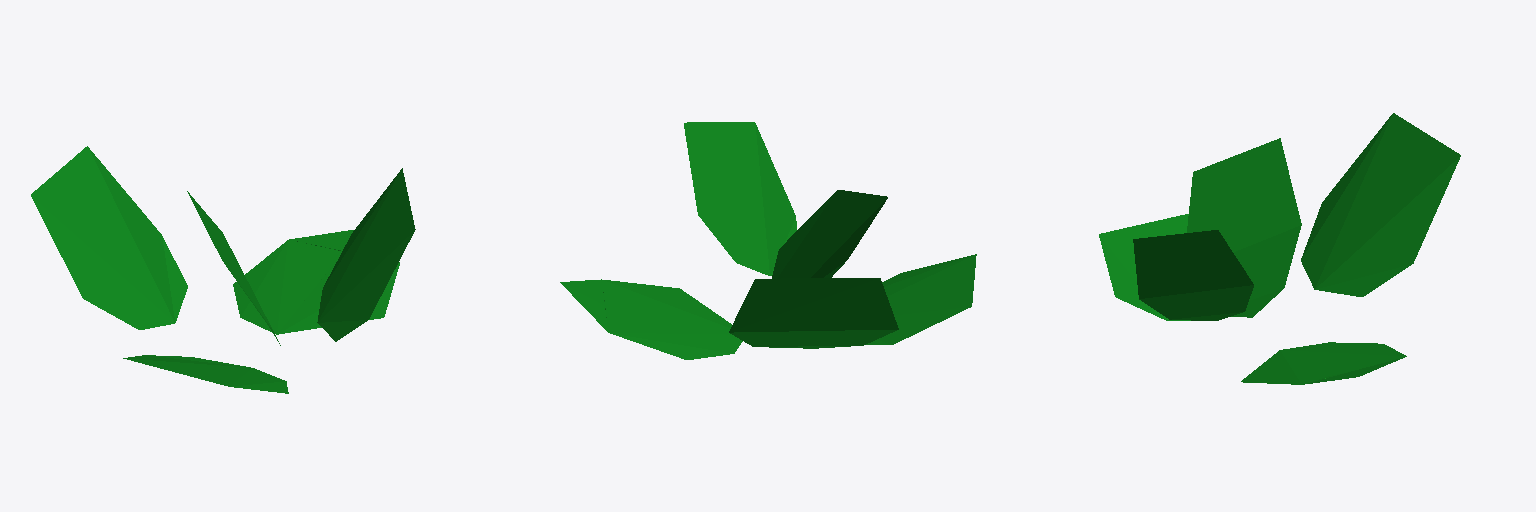
Rendered from plant2.obj.
3 renders of one model, left to right at view 1: azimuth 30°, elevation 25°; view 2: azimuth 150°, elevation 25°; view 3: azimuth 270°, elevation 25°, orthographic.
Visible parts, largest first — view 1: Object.1, Object.2, Object.3, Object.4, Object.5; view 2: Object.2, Object.1, Object.3, Object.5, Object.4; view 3: Object.1, Object.5, Object.2, Object.3, Object.4.
Part boxes in pixels (x1,y1,x2,y2): Object.1: (31, 146, 187, 329); Object.2: (317, 168, 415, 341); Object.3: (233, 230, 399, 334); Object.4: (123, 355, 288, 393); Object.5: (187, 191, 280, 345); Object.2: (684, 122, 796, 275); Object.1: (729, 278, 898, 348); Object.3: (560, 279, 742, 359); Object.5: (772, 190, 887, 278); Object.4: (866, 254, 976, 344); Object.1: (1301, 113, 1460, 296); Object.5: (1187, 138, 1301, 317); Object.2: (1133, 230, 1253, 320); Object.3: (1241, 342, 1406, 384); Object.4: (1099, 214, 1190, 320).
Bounding box in the file's own units: 0.4998 × 0.2369 × 0.4644.